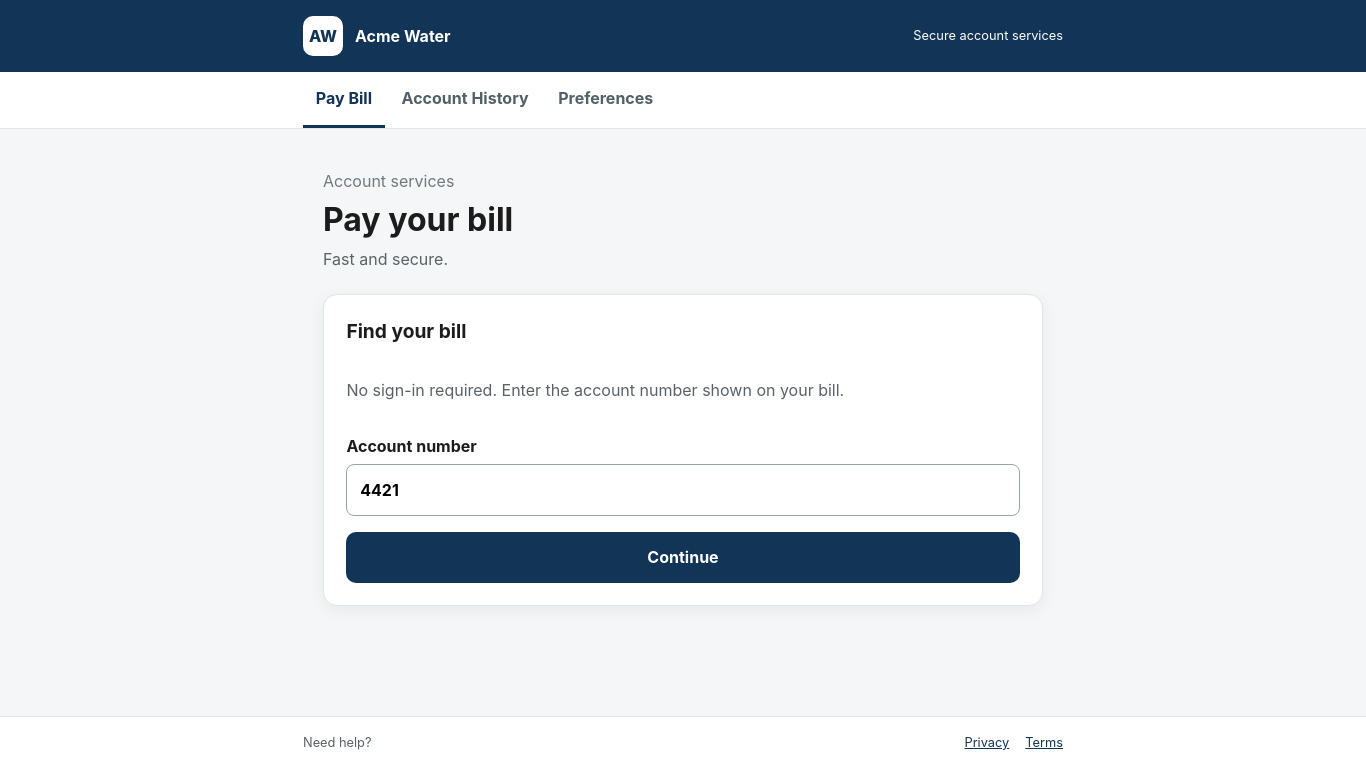
Scenario: multi-invoice cart + batch checkout › renders a selectable list + cart with all open invoices selected by default
Click the button with test id "lookup-submit": [683, 557] box [346,532,1020,583]
(page scrolled)
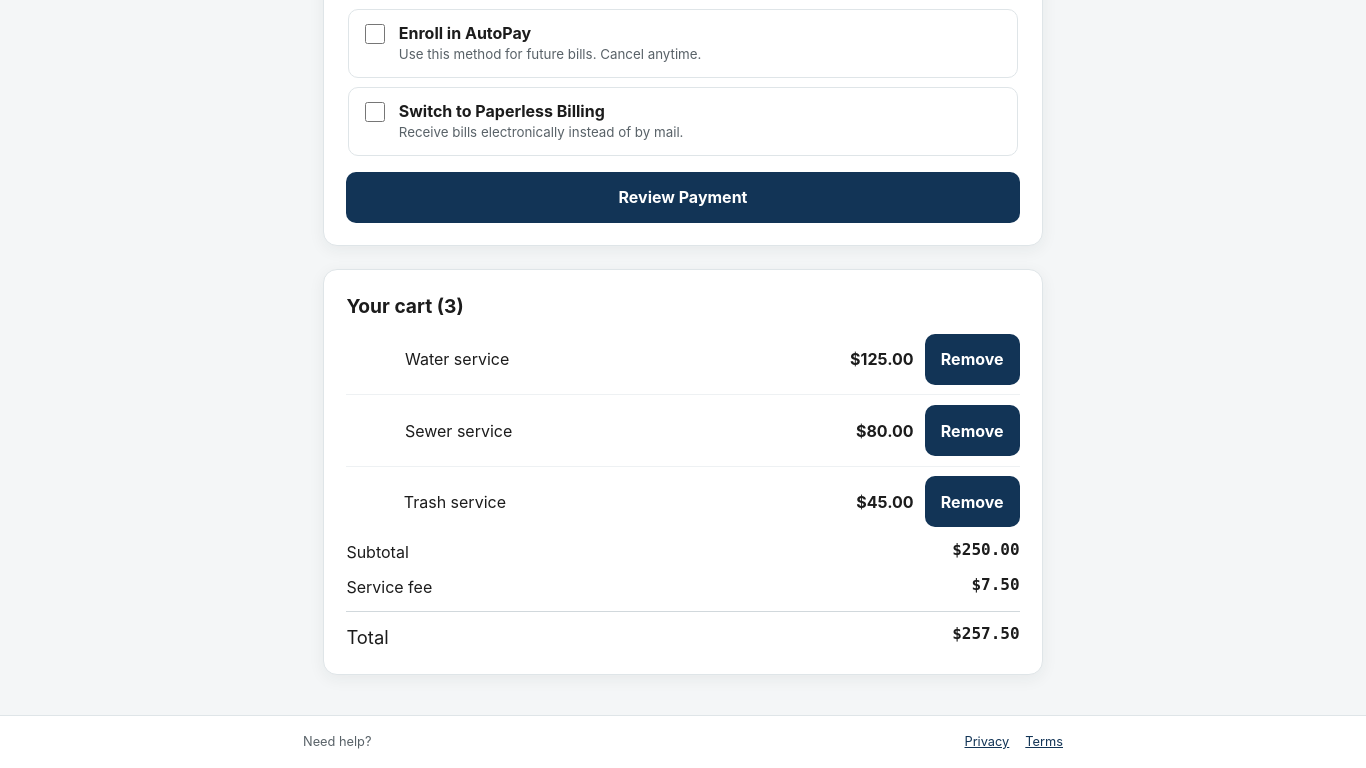
expect the element with test id "cart" shows "Your cart (3)": met, box [323,268,1043,675]
expect the text with test id "cart-subtotal" reads "$250.00": met, box [952,540,1020,559]
expect the text with test id "cart-fee" reads "$7.50": met, box [971,576,1020,594]
